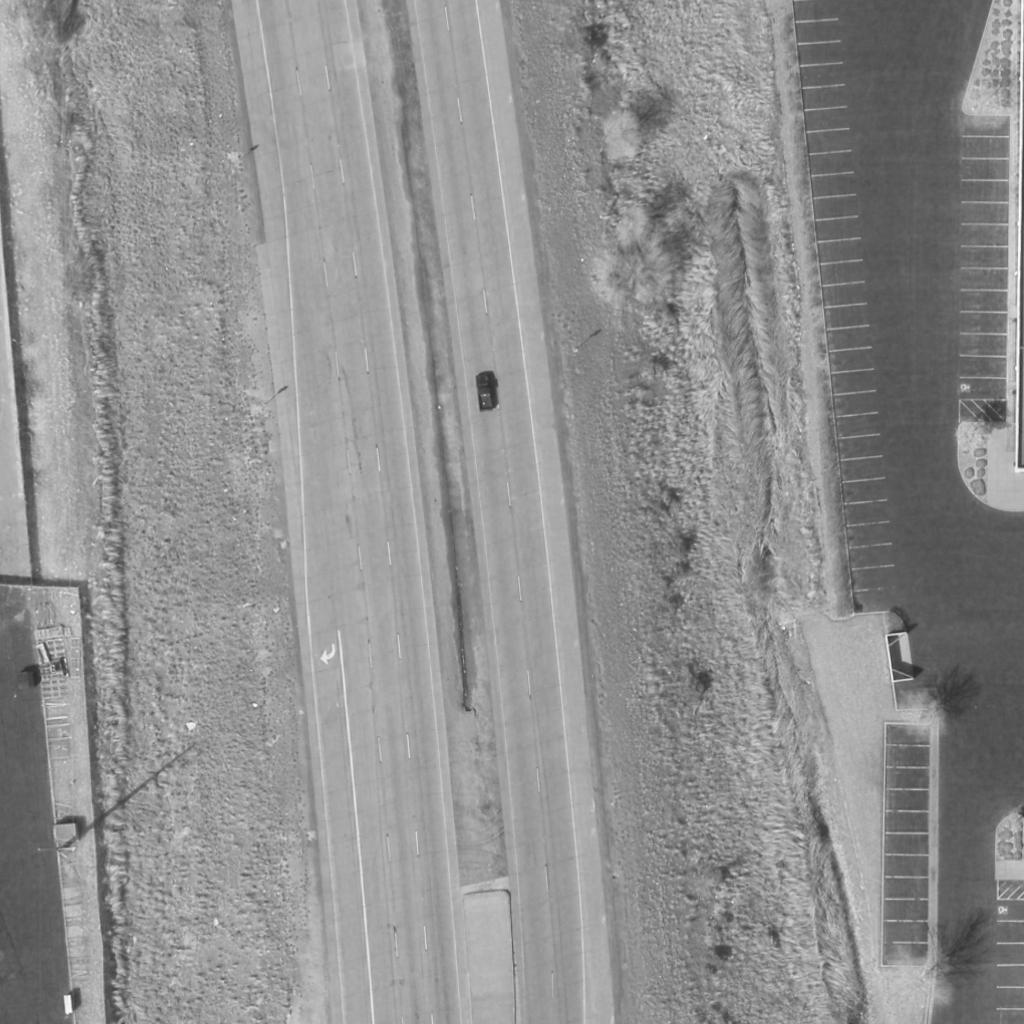vehicle: (475, 376, 495, 412)
